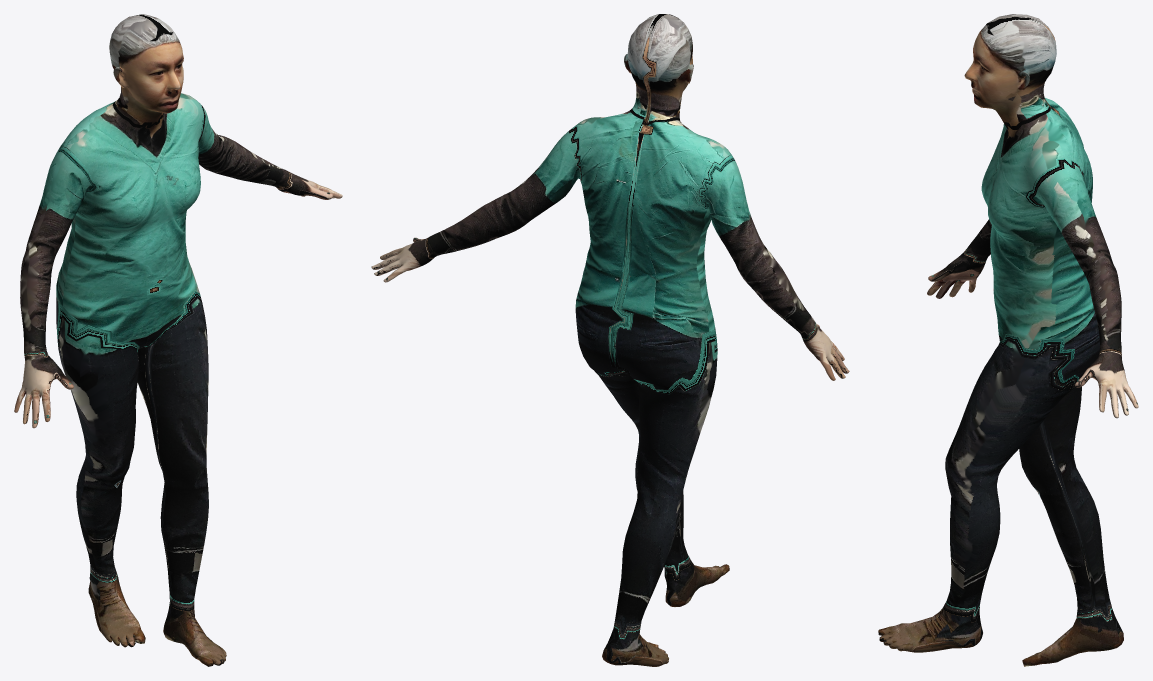
The model's file is smpl_uv_test.obj.
The picture shows the model from 3 angles, left to right: view 1: azimuth 30°, elevation 25°; view 2: azimuth 150°, elevation 25°; view 3: azimuth 270°, elevation 25°; orthographic projection. The views are drawn at different scales.
Bounding box in the file's own units: 1.13 × 1.73 × 0.6281.
1 material, 1 textured.
